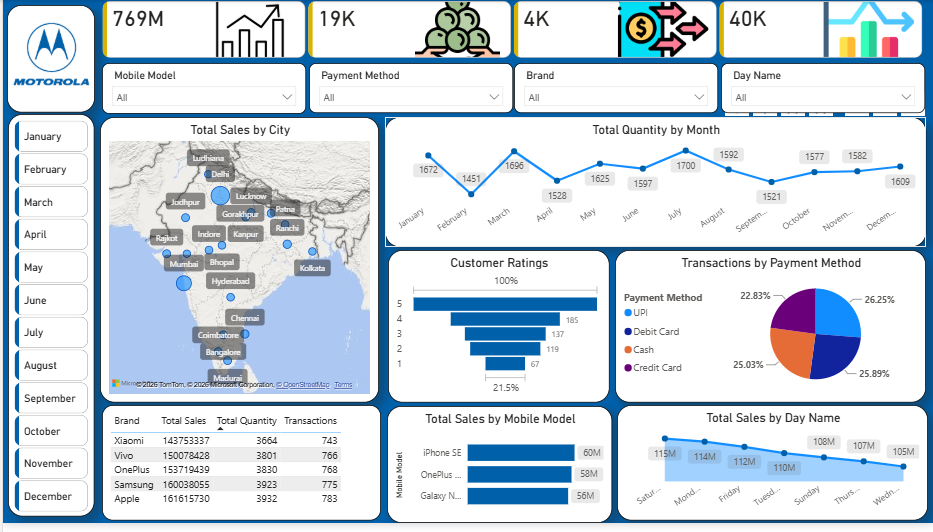

The dashboard page shown, as its layout file describes it:
{"tool":"powerbi","page":{"name":"Page 1","canvas":[1280,720],"ordinal":0},"visuals":[{"type":"shape","box":[5.5,6.9,120.8,148.2],"z":0},{"type":"image","box":[9.6,16.5,113.9,116.6],"z":1000},{"type":"shape","box":[6.9,156.4,119.4,554.4],"z":2000},{"type":"advancedSlicerVisual","fields":{"Values":["Sales_Data.Date.Variation.Date Hierarchy.Month"]},"box":[11,160.5,111.1,548.9],"z":3000},{"type":"cardVisual","fields":{"Data":["Sales_Data.Total Sales","Sales_Data.Total Quantity","Sales_Data.Transactions","Sales_Data.Average"]},"box":[131.7,1.7,1140.1,83.7],"z":4000},{"type":"map","fields":{"Category":["Sales_Data.City"],"Size":["Sales_Data.Total Sales"]},"box":[132.9,160.8,384.1,393.1],"z":5000},{"type":"lineChart","fields":{"Category":["Sales_Data.Date.Variation.Date Hierarchy.Month","Sales_Data.Date.Variation.Date Hierarchy.Day"],"Y":["Sales_Data.Total Quantity"]},"box":[525.9,160.8,744.8,178.7],"z":6000},{"type":"clusteredBarChart","fields":{"Category":["Sales_Data.Mobile Model"],"Y":["Sales_Data.Total Sales"]},"box":[528.3,558.5,310.1,160.5],"z":7000},{"type":"pieChart","fields":{"Category":["Sales_Data.Payment Method"],"Y":["Sales_Data.Transactions"]},"box":[842.5,344.4,428.1,209.9],"z":8000},{"type":"funnel","title":"Customer Ratings","fields":{"Category":["Sales_Data.Customer Ratings"],"Y":["CountNonNull(Sales_Data.Customer Ratings)"]},"box":[529.7,344.4,304.6,209.9],"z":9000},{"type":"areaChart","fields":{"Category":["Sales_Data.Day Name"],"Y":["Sales_Data.Total Sales"]},"box":[845.3,557.1,428.1,159.2],"z":10000},{"type":"tableEx","fields":{"Values":["Sales_Data.Brand","Sales_Data.Total Sales","Sales_Data.Total Quantity","Sales_Data.Transactions"]},"box":[135.8,557.1,384.2,159.2],"z":11000},{"type":"slicer","fields":{"Values":["Sales_Data.Mobile Model"]},"box":[136.2,87.1,281.4,70.3],"z":12000},{"type":"slicer","fields":{"Values":["Sales_Data.Payment Method"]},"box":[421,87.1,281.4,69.2],"z":13000},{"type":"slicer","fields":{"Values":["Sales_Data.Brand"]},"box":[703.5,87.1,281.4,69.2],"z":14000},{"type":"slicer","fields":{"Values":["Sales_Data.Day Name"]},"box":[988.2,87.1,281.4,69.2],"z":15000}]}

Visuals, with their boxes in screenshot pixels (x1, y1, x2, y2), scaled from the page's 1280x720 canvas onto the 933x532 screenshot:
shape: (left=4, top=5, right=92, bottom=115)
image: (left=7, top=12, right=90, bottom=98)
shape: (left=5, top=116, right=92, bottom=525)
advancedSlicerVisual - Sales_Data.Date.Variation.Date Hierarchy.Month: (left=8, top=119, right=89, bottom=524)
cardVisual - Sales_Data.Total Sales x Sales_Data.Total Quantity: (left=96, top=1, right=927, bottom=63)
map - Sales_Data.City x Sales_Data.Total Sales: (left=97, top=119, right=377, bottom=409)
lineChart - Sales_Data.Date.Variation.Date Hierarchy.Month x Sales_Data.Date.Variation.Date Hierarchy.Day: (left=383, top=119, right=926, bottom=251)
clusteredBarChart - Sales_Data.Mobile Model x Sales_Data.Total Sales: (left=385, top=413, right=611, bottom=531)
pieChart - Sales_Data.Payment Method x Sales_Data.Transactions: (left=614, top=254, right=926, bottom=410)
"Customer Ratings" funnel: (left=386, top=254, right=608, bottom=410)
areaChart - Sales_Data.Day Name x Sales_Data.Total Sales: (left=616, top=412, right=928, bottom=529)
tableEx - Sales_Data.Brand x Sales_Data.Total Sales: (left=99, top=412, right=379, bottom=529)
slicer - Sales_Data.Mobile Model: (left=99, top=64, right=304, bottom=116)
slicer - Sales_Data.Payment Method: (left=307, top=64, right=512, bottom=115)
slicer - Sales_Data.Brand: (left=513, top=64, right=718, bottom=115)
slicer - Sales_Data.Day Name: (left=720, top=64, right=925, bottom=115)
